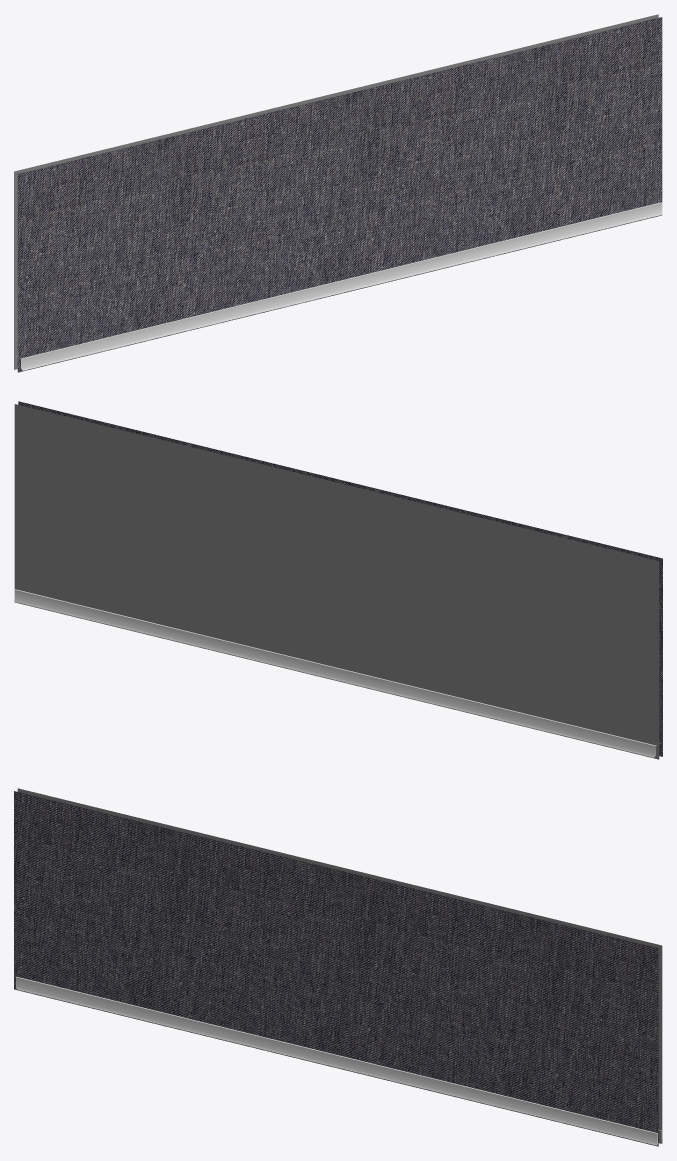
The model's file is FLAT_wall_04.FBX.
3 renders of one model, top to bottom at view 1: azimuth 30°, elevation 25°; view 2: azimuth 150°, elevation 25°; view 3: azimuth 330°, elevation 25°, orthographic.
Parts seen in each view (by area): view 1: FLAT_wall_04, FLAT_wall_04_plinthe; view 2: FLAT_wall_04, FLAT_wall_04_plinthe; view 3: FLAT_wall_04, FLAT_wall_04_plinthe.
Part boxes in pixels (<box>): FLAT_wall_04: <box>14,14,662,372</box>; FLAT_wall_04_plinthe: <box>16,202,662,370</box>; FLAT_wall_04: <box>14,401,662,759</box>; FLAT_wall_04_plinthe: <box>14,589,660,757</box>; FLAT_wall_04: <box>14,788,662,1146</box>; FLAT_wall_04_plinthe: <box>16,976,662,1145</box>.
Size of the model in its own units: 1431 by 421 by 24.4.
2 materials, 1 textured.
